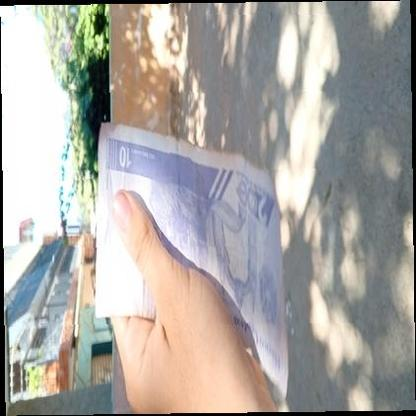ten-back-vef: (95, 119, 284, 402)
